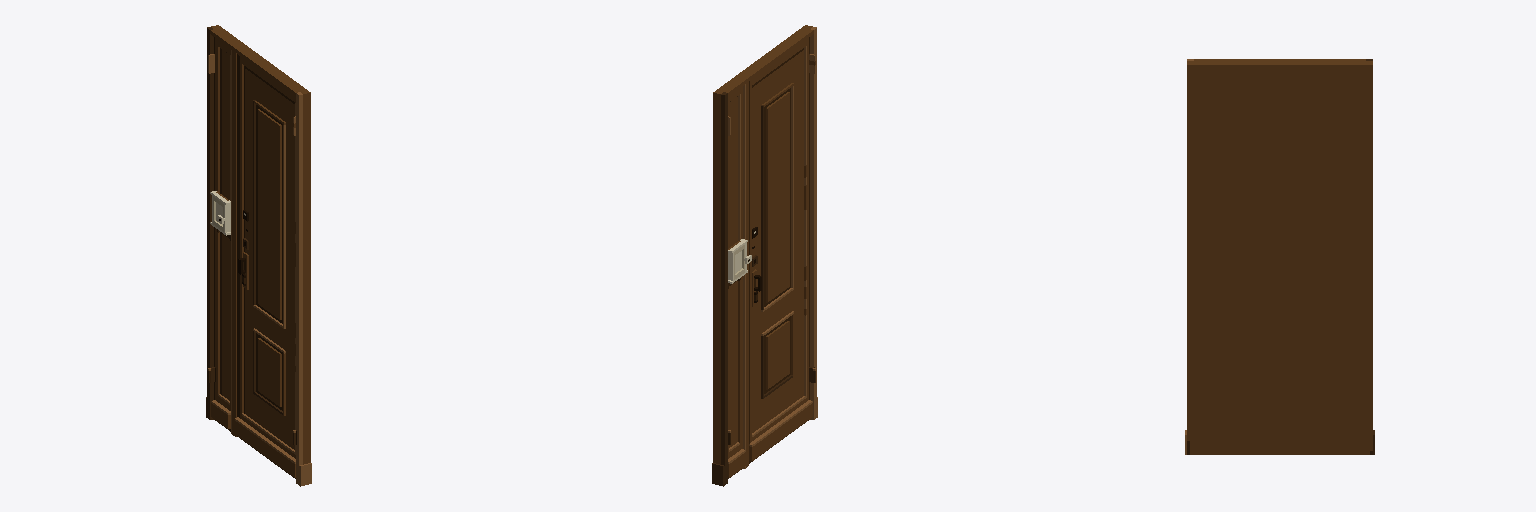
The picture shows the model from 3 angles: view 1: azimuth 30°, elevation 25°; view 2: azimuth 150°, elevation 25°; view 3: azimuth 270°, elevation 25°; orthographic projection.
Visible parts, largest first — view 1: object 1; view 2: object 1; view 3: object 1.
Boxes of the visible parts, x1=… form: object 1: x1=206, y1=25, x2=311, y2=486; object 1: x1=712, y1=25, x2=817, y2=486; object 1: x1=1185, y1=59, x2=1374, y2=454.
Size of the model in its own units: 0.9 by 19.3 by 8.5.
Materials: 1 (1 with a texture image).